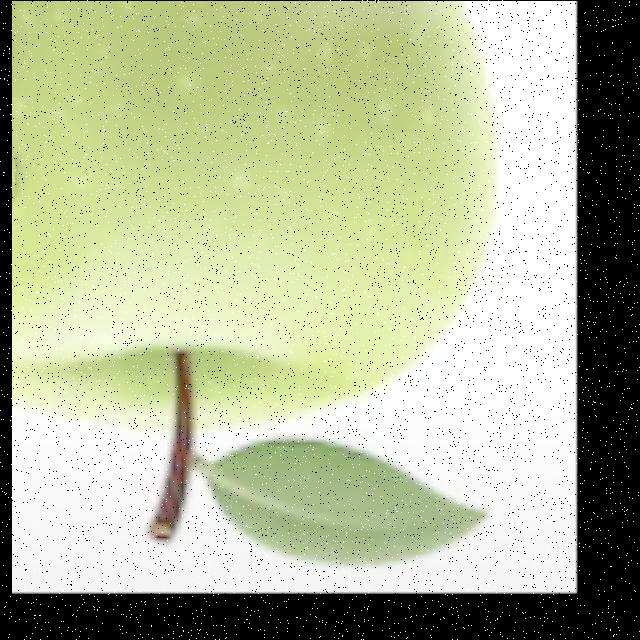Apel Segar: (11, 0, 503, 446)
